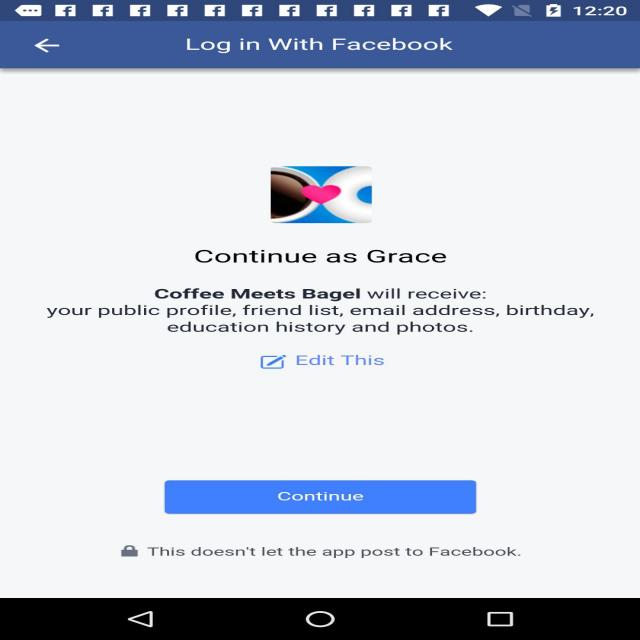button: (163, 480, 482, 516)
icon: (28, 34, 64, 56), (251, 352, 290, 372), (114, 540, 140, 562)
image: (267, 162, 380, 224)
text: (32, 282, 601, 343), (182, 243, 454, 270), (144, 543, 526, 562), (171, 36, 456, 54), (290, 350, 389, 370), (269, 489, 368, 505)
